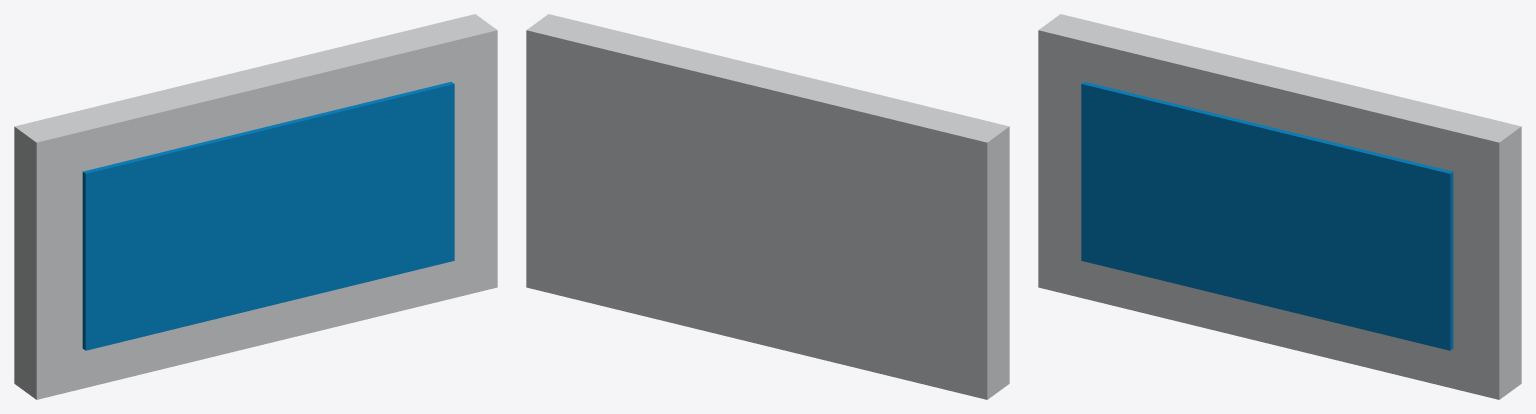
The model's file is term-supply-wall-register.glb.
3 renders of one model, left to right at view 1: azimuth 30°, elevation 25°; view 2: azimuth 150°, elevation 25°; view 3: azimuth 330°, elevation 25°, orthographic.
Parts seen in each view (by area): view 1: hvac-terminal-supply-wall-register; view 2: hvac-terminal-supply-wall-register; view 3: hvac-terminal-supply-wall-register.
Boxes of the visible parts, left/top/right/bottom form: hvac-terminal-supply-wall-register: left=14, top=14, right=497, bottom=399; hvac-terminal-supply-wall-register: left=526, top=14, right=1009, bottom=399; hvac-terminal-supply-wall-register: left=1038, top=14, right=1521, bottom=399.
Size of the model in its own units: 0.3 by 0.16 by 0.0285.
